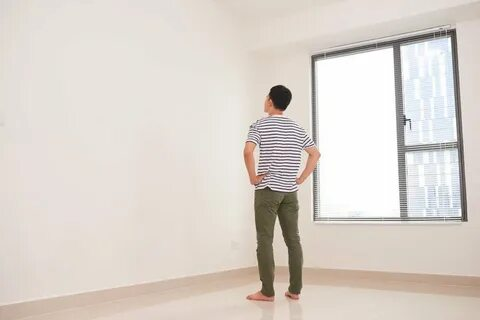awake: (243, 84, 322, 303)
